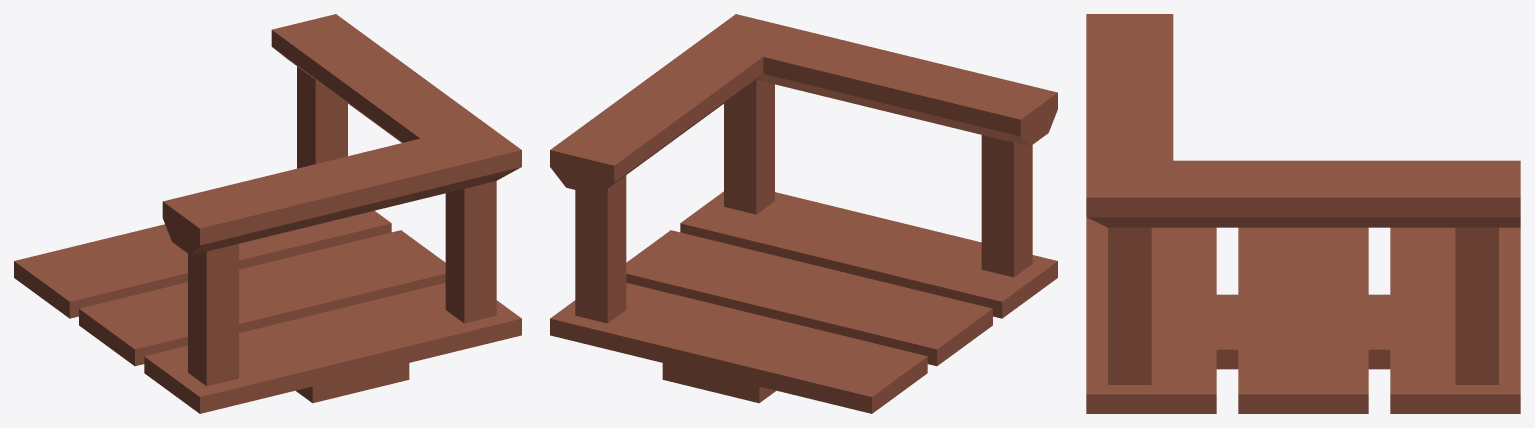
Rendered from scaffold_small_low_cornerLeft 1.fbx.
3 renders of one model, left to right at view 1: azimuth 30°, elevation 25°; view 2: azimuth 150°, elevation 25°; view 3: azimuth 270°, elevation 25°, orthographic. The views are drawn at different scales.
Parts seen in each view (by area): view 1: scaffold_small_low_cornerLeft; view 2: scaffold_small_low_cornerLeft; view 3: scaffold_small_low_cornerLeft.
Part boxes in pixels (box(x1,y1,x2,y2)): scaffold_small_low_cornerLeft: box(14, 14, 521, 413); scaffold_small_low_cornerLeft: box(550, 14, 1057, 413); scaffold_small_low_cornerLeft: box(1086, 14, 1520, 413).
Size of the model in its own units: 200 by 120 by 200.
